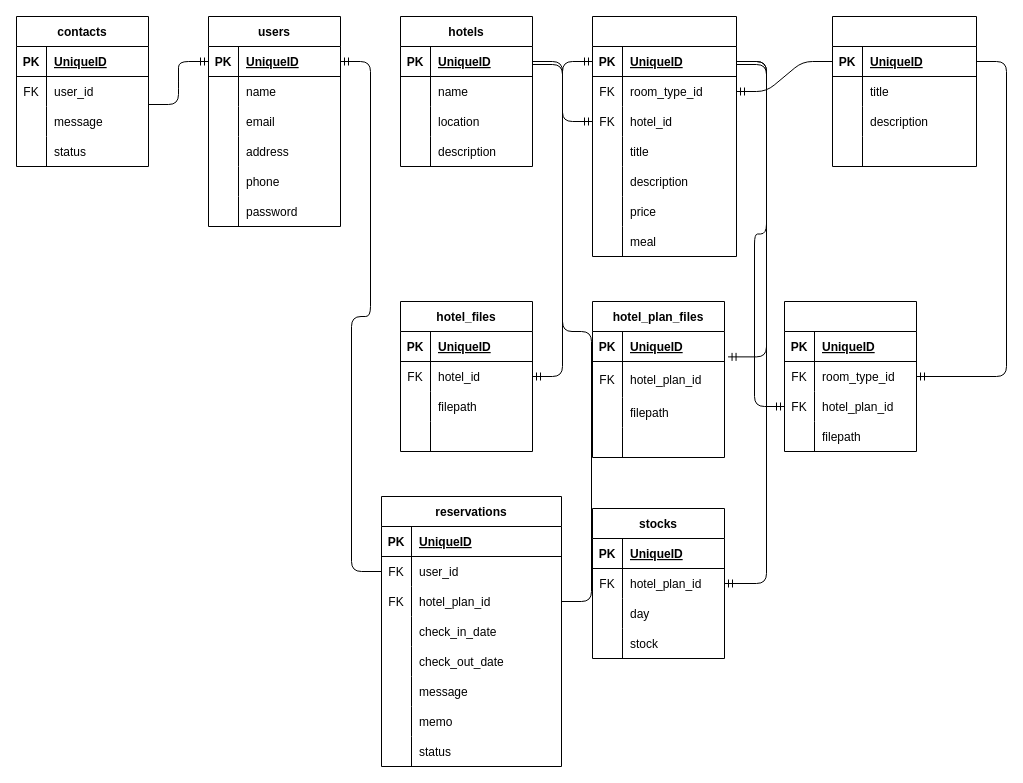
Image size: 1023x783. Some labels were removed from this diagram. The shapes that lost their labels are listed below. From the top down, each one's box as (x1, y1, x2, y2) in pixels, then its label:
(832, 16, 976, 166): room_types
(592, 16, 736, 256): hotel_plans
(784, 300, 916, 452): room_type_files
